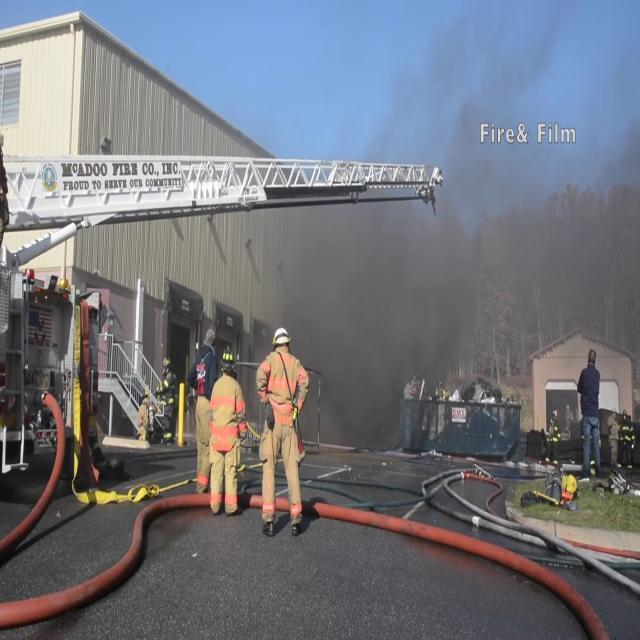Smoke: (255, 2, 640, 394)
